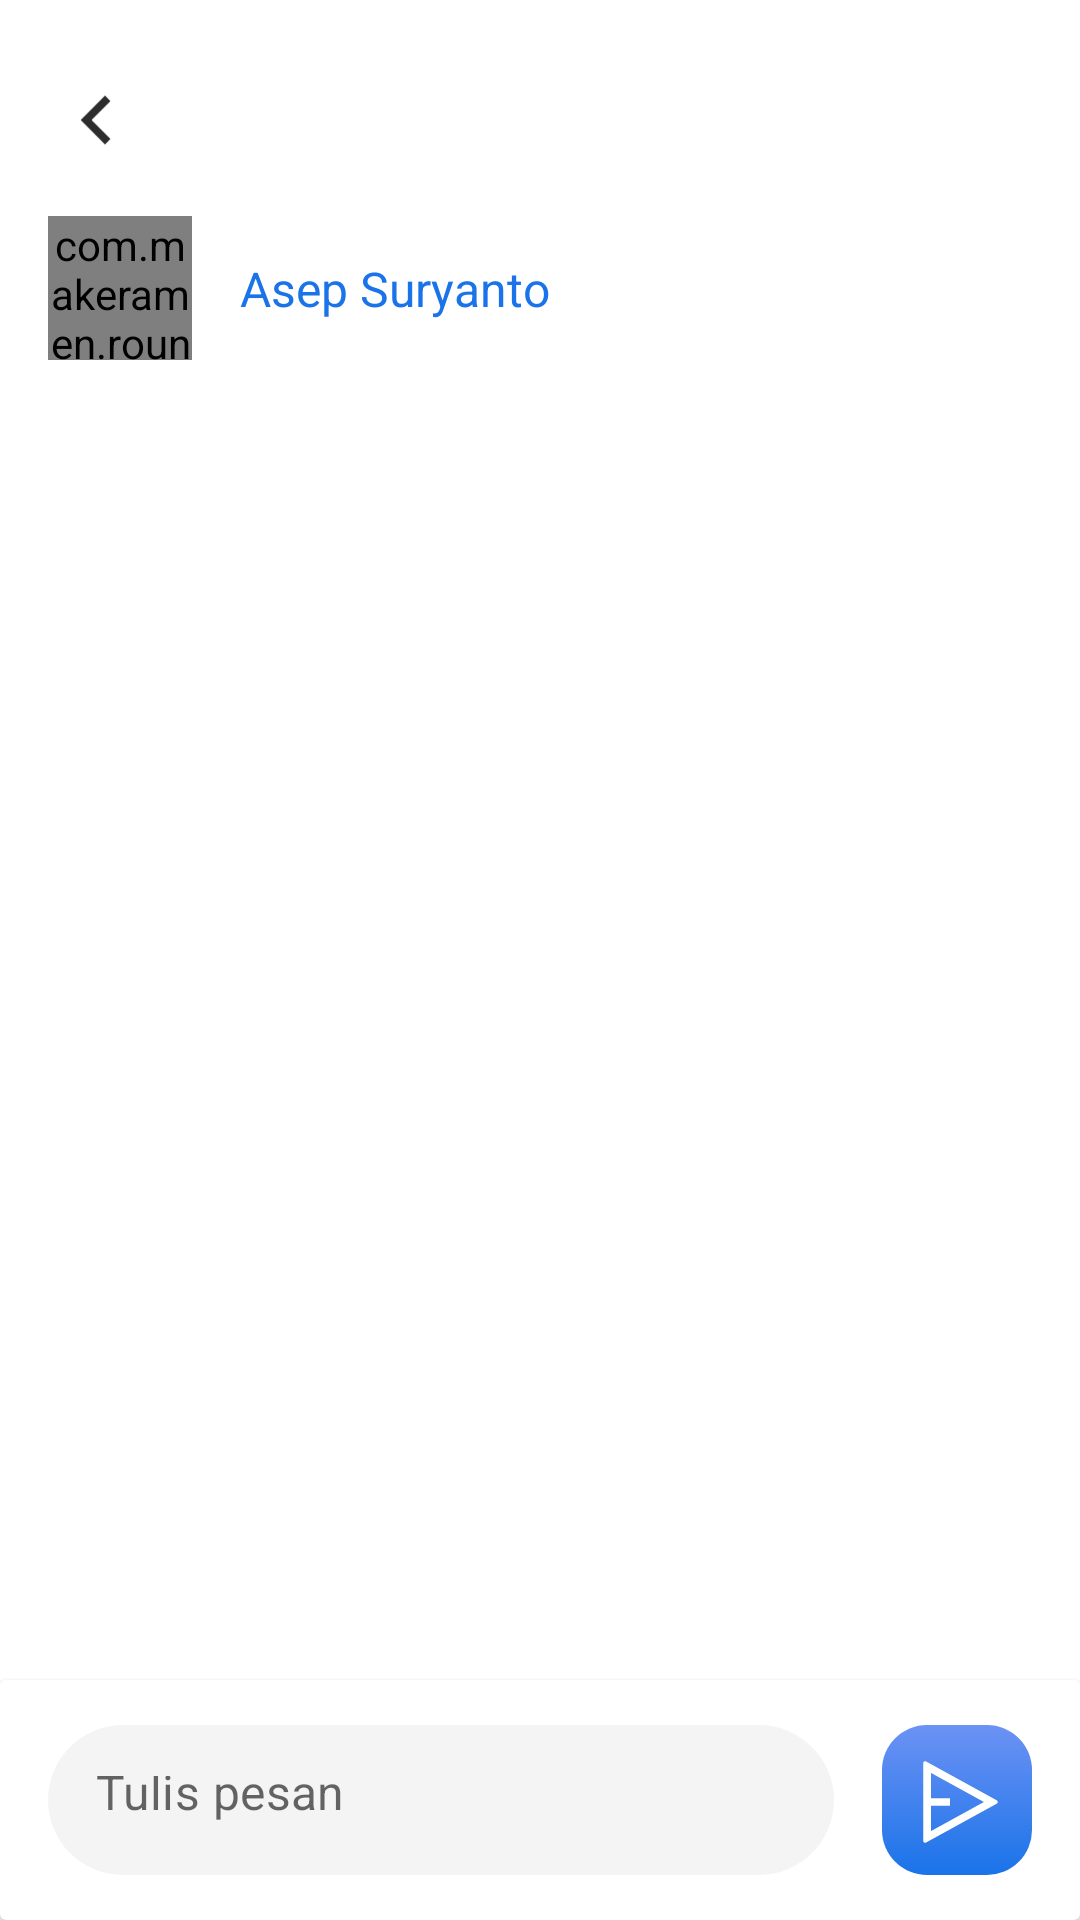

Icon click points for this 1080×1920 phone screenshot, format (x=x, y=y):
left: (x=96, y=120)
send: (x=957, y=1800)
